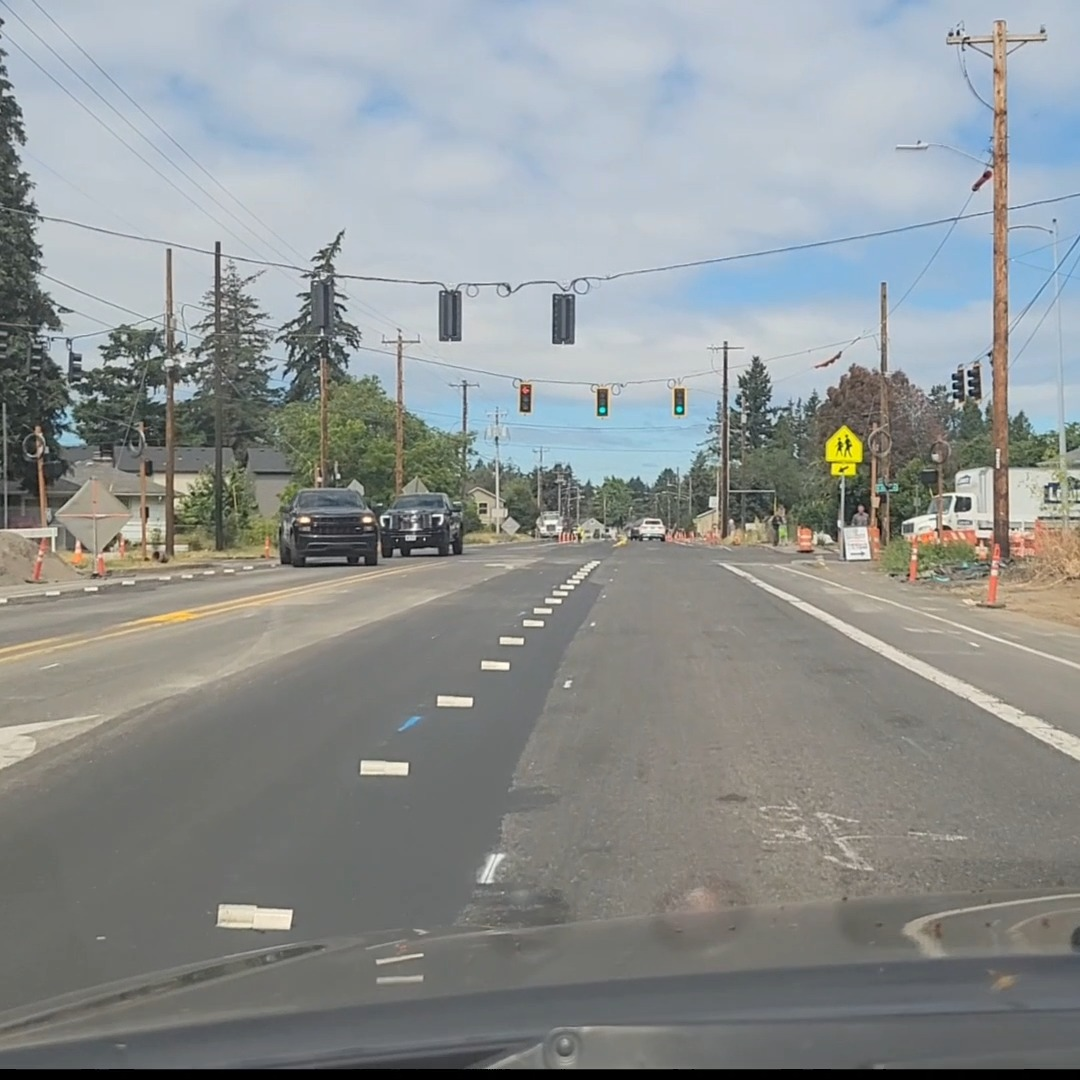car: (277, 487, 381, 567), (377, 490, 464, 556), (627, 517, 666, 540)
crosswalk-sign: (824, 424, 862, 473)
delineator: (979, 545, 1003, 606), (31, 540, 48, 580), (906, 537, 920, 583), (93, 551, 106, 577), (262, 533, 271, 558), (118, 536, 125, 556)
